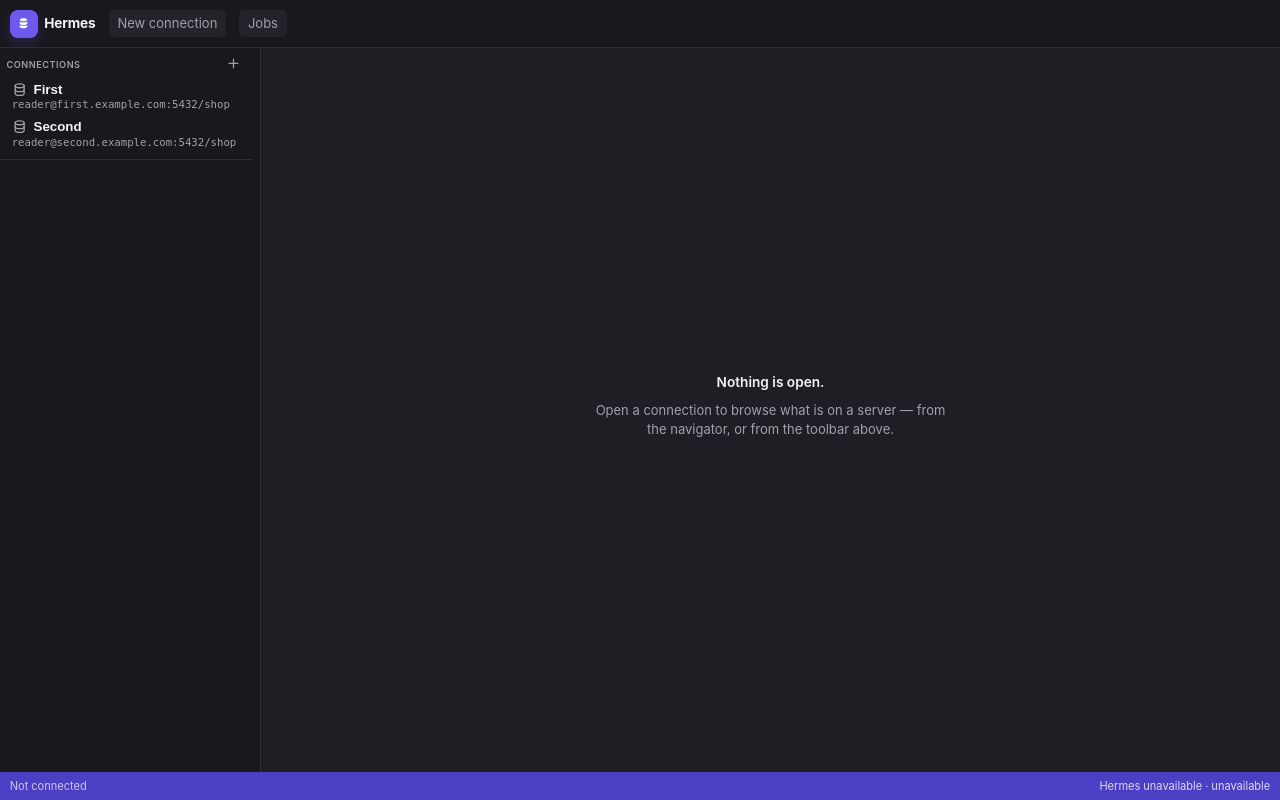
Test: opening a server that already has a tab › releases the connection it pushed out even when another opening got there first
// The row: held unanswered, so that the dialog can get there first.
What coordinates should you click on to do the following:
click the button "First reader@first.example.com:5432/shop"
I would click on:
 (114, 97)
Its box is [6,78,222,115].
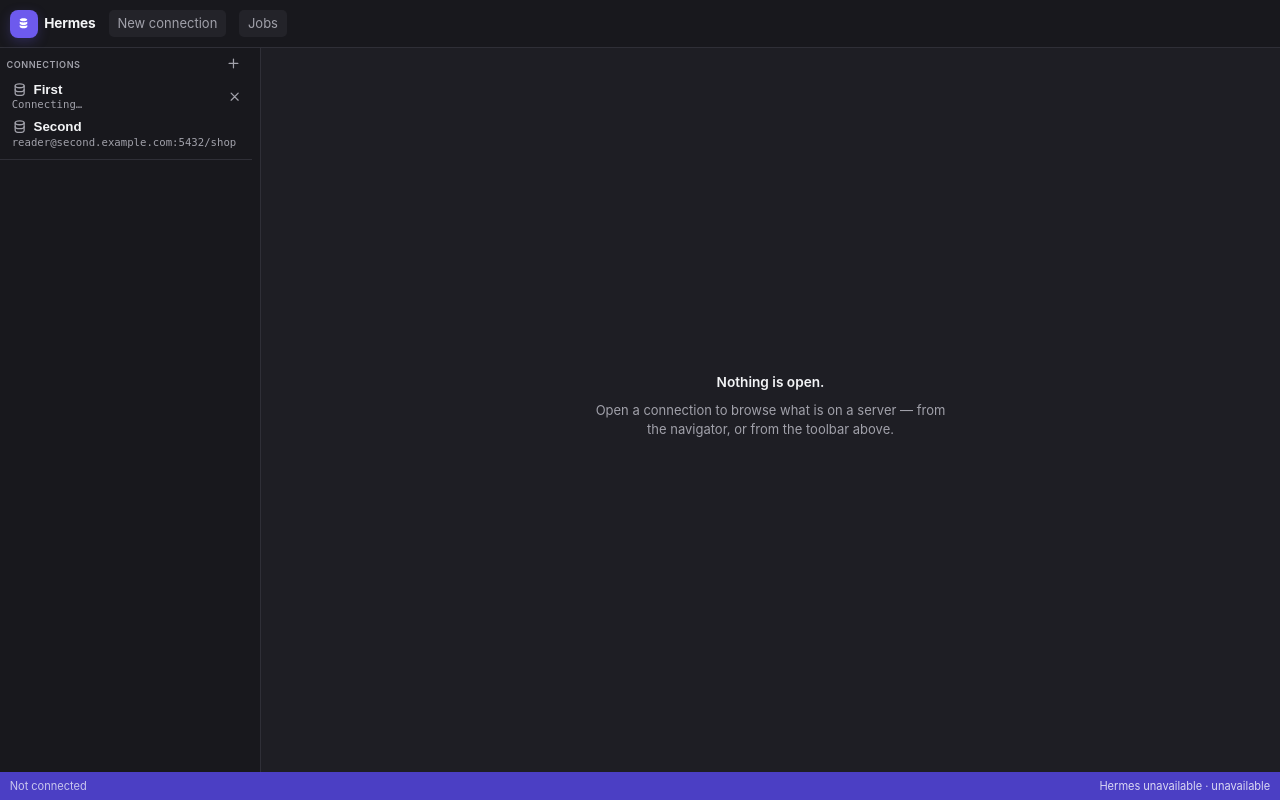
What coordinates should you click on to do the following:
click the button "New connection"
I would click on:
 (167, 23)
Its box is [109,10,226,37].
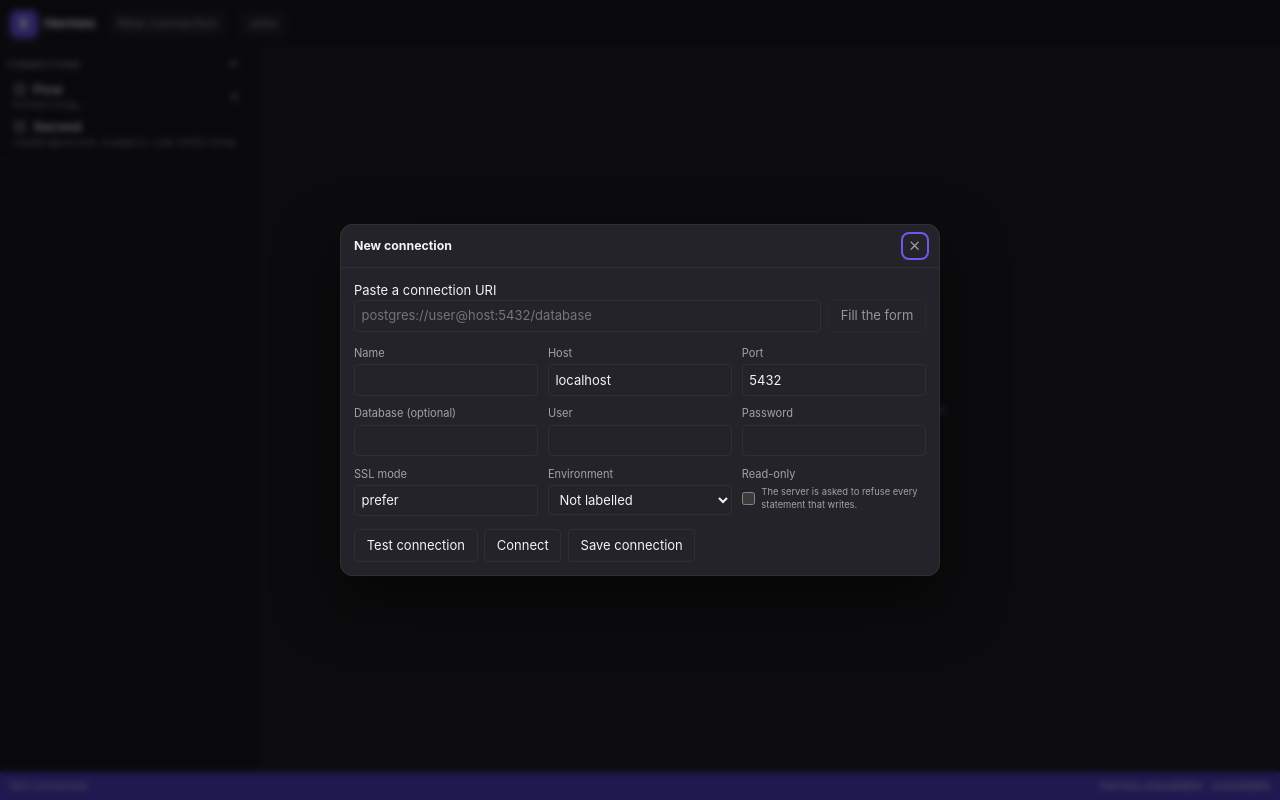
What coordinates should you click on to do the following:
click the button "Connect"
I would click on:
 (523, 545)
Its box is [484,529,561,562].
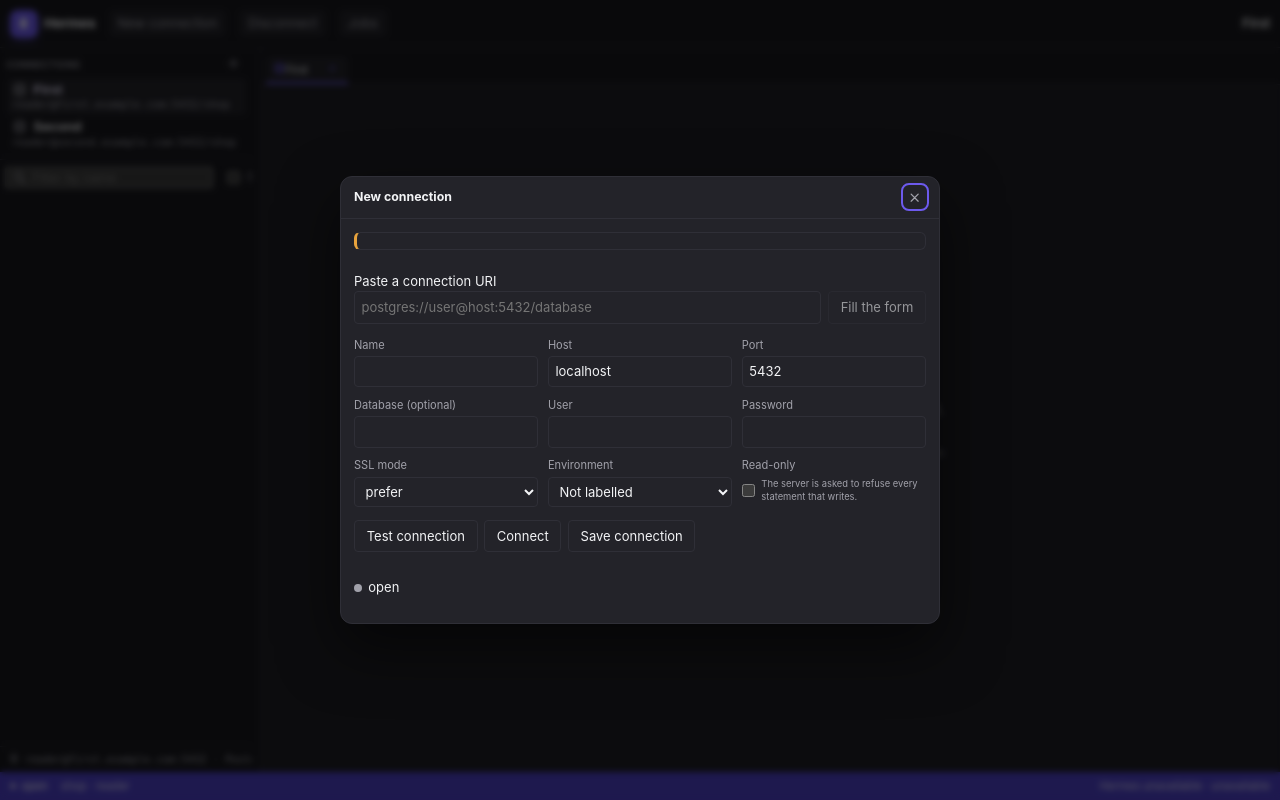
expect the number of tabs "First" is 1: met, box [266,62,320,78]
